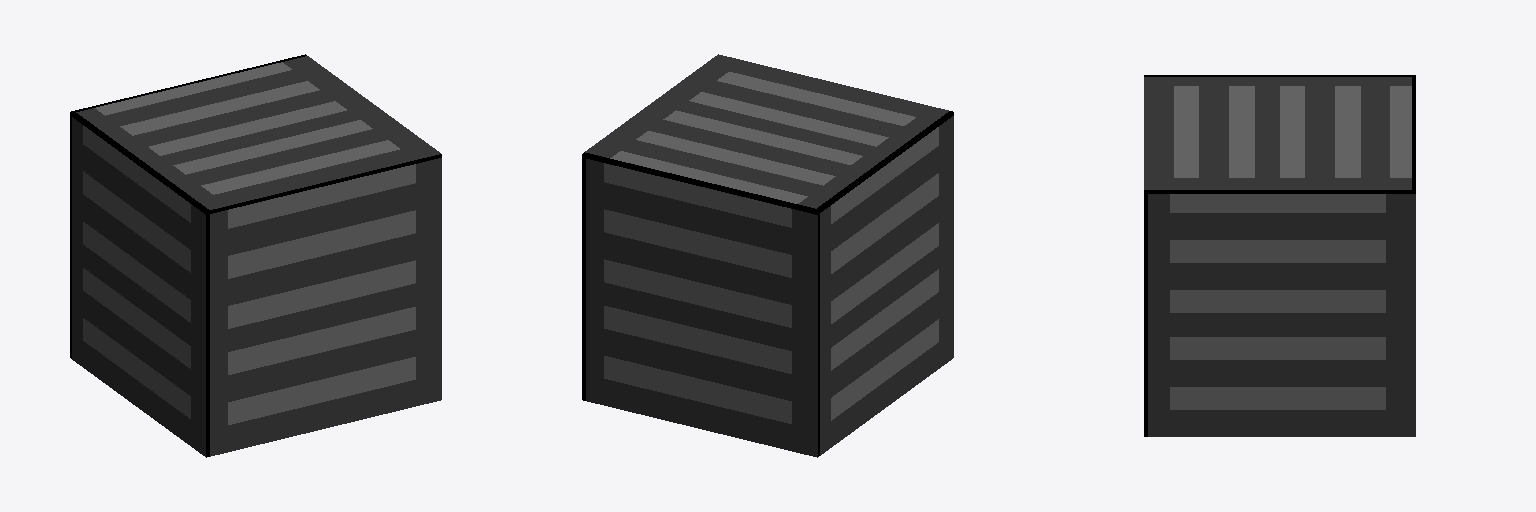
3 views of the same model, side by side, from view 1: azimuth 30°, elevation 25°; view 2: azimuth 150°, elevation 25°; view 3: azimuth 270°, elevation 25° (orthographic).
Parts seen in each view (by area): view 1: belt-raw; view 2: belt-raw; view 3: belt-raw.
Boxes of the visible parts, box(x1,y1,x2,y2) form: belt-raw: box(70, 54, 441, 457); belt-raw: box(582, 54, 953, 457); belt-raw: box(1144, 75, 1415, 436).
Bounding box in the file's own units: 1 × 1 × 1.
1 materials, 1 textured.